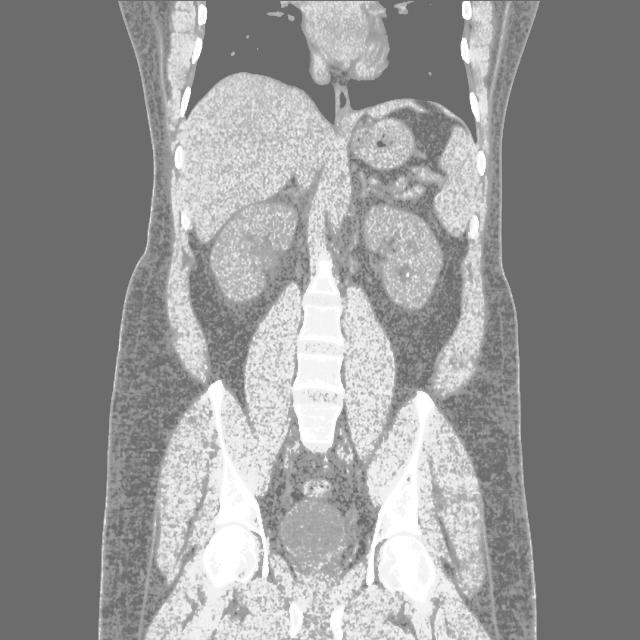STONE: (114, 77, 532, 302)
